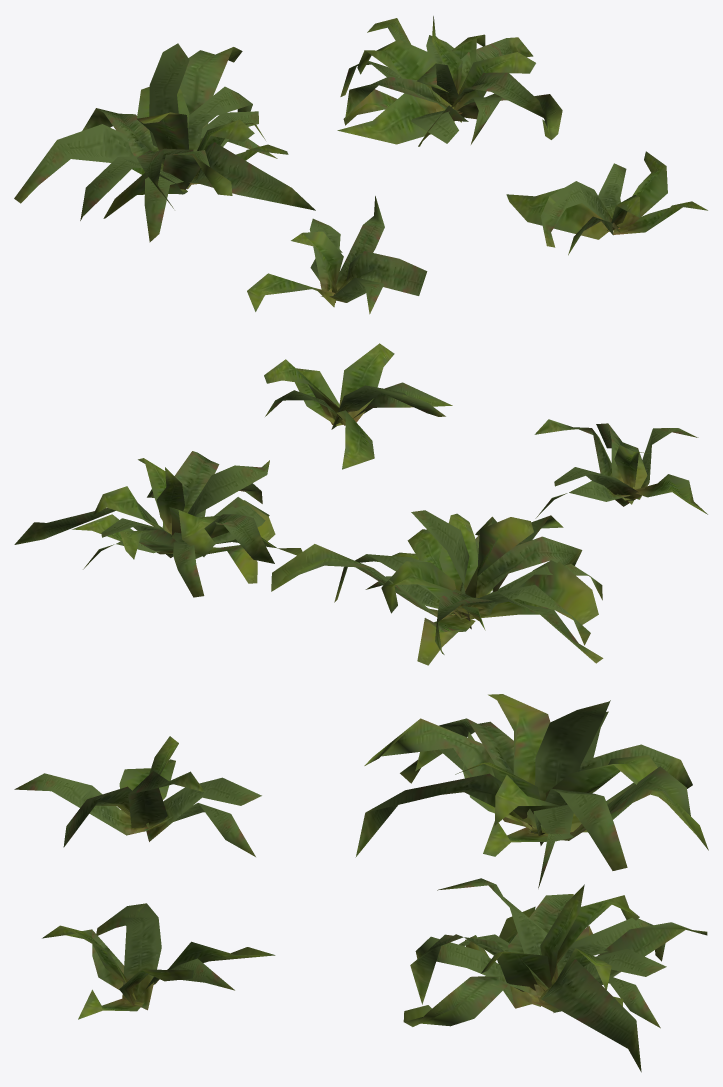
Rendered from fern_02.lod.glb.
The picture shows the model from 3 angles, top to bottom: view 1: azimuth 30°, elevation 25°; view 2: azimuth 150°, elevation 25°; view 3: azimuth 270°, elevation 25°; orthographic projection. The views are drawn at different scales.
Visible parts, largest first — view 1: fern_02_b; view 2: fern_02_b; view 3: fern_02_b.
Part boxes in pixels (<box>): fern_02_b: <box>14,16,707,314</box>; fern_02_b: <box>14,343,707,665</box>; fern_02_b: <box>14,694,708,1072</box>.
Size of the model in its own units: 1.96 by 0.4246 by 1.72.
Materials: 1 (1 with a texture image).
